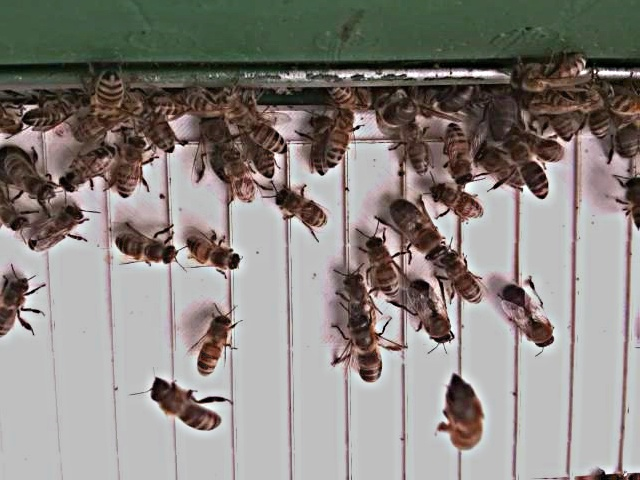Drone: (501, 283, 559, 353), (389, 199, 449, 265), (404, 278, 455, 348), (343, 314, 390, 388)
Worker: (151, 377, 227, 437), (27, 205, 86, 256), (59, 146, 118, 195), (363, 235, 406, 300), (513, 140, 553, 203), (198, 313, 235, 380), (114, 232, 180, 269), (442, 252, 486, 307), (274, 192, 332, 233), (440, 123, 476, 188), (0, 273, 33, 341), (239, 114, 290, 158), (188, 235, 244, 275), (433, 184, 488, 224), (118, 133, 150, 200), (326, 107, 358, 170), (403, 117, 434, 178)
